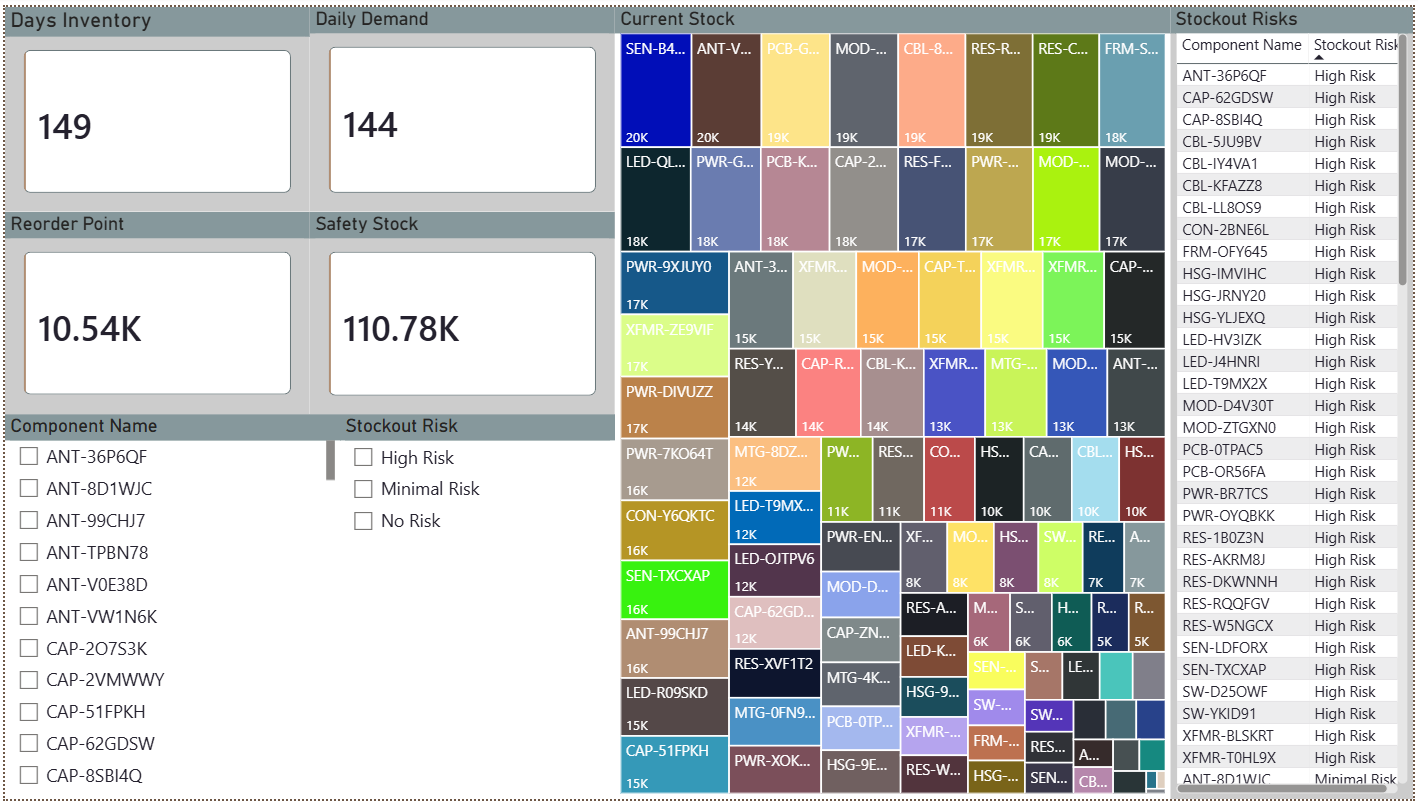

The page's visual inventory and layout, read from the dashboard file:
{"tool":"powerbi","page":{"name":"Stock","canvas":[1280,720],"ordinal":0},"visuals":[{"type":"tableEx","title":"Stockout Risks","fields":{"Values":["Sheet1.Component Name","Sheet1.Stockout Risk"]},"box":[1058.8,0,221.2,719.8],"z":0},{"type":"cardVisual","title":"Days Inventory","fields":{"Data":["Avg(Sheet1.Days Inventory)"]},"box":[0,0,277.3,186.4],"z":1000},{"type":"slicer","title":"Component Name","fields":{"Values":["Sheet1.Component Name"]},"box":[0,370,304.5,350],"z":2000},{"type":"cardVisual","title":"Daily Demand","fields":{"Data":["Avg(Sheet1.Daily Demand)"]},"box":[277.3,0,277.3,186.4],"z":3000},{"type":"slicer","title":"Stockout Risk","fields":{"Values":["Sheet1.Stockout Risk"]},"box":[304.5,370,250,350],"z":4000},{"type":"treemap","title":"Current Stock","fields":{"Group":["Sheet1.Component Name"],"Values":["Sum(Sheet1.Current Stock)"]},"box":[554.5,0,505.5,720],"z":5000},{"type":"cardVisual","title":"Reorder Point","fields":{"Data":["Avg(Sheet1.Reorder Point)"]},"box":[0,186.4,277.3,183.6],"z":6000},{"type":"cardVisual","title":"Safety Stock","fields":{"Data":["Sum(Sheet1.Safety Stock)"]},"box":[277,186,277,184],"z":7000}]}

Visuals, with their boxes in screenshot pixels (x1, y1, x2, y2), scaled from the page's 1280x720 canvas onto the 1418x805 screenshot:
"Stockout Risks" tableEx: BBox(1173, 0, 1417, 804)
"Days Inventory" cardVisual: BBox(0, 0, 307, 208)
"Component Name" slicer: BBox(0, 414, 337, 804)
"Daily Demand" cardVisual: BBox(307, 0, 614, 208)
"Stockout Risk" slicer: BBox(337, 414, 614, 804)
"Current Stock" treemap: BBox(614, 0, 1174, 804)
"Reorder Point" cardVisual: BBox(0, 208, 307, 414)
"Safety Stock" cardVisual: BBox(307, 208, 614, 414)
